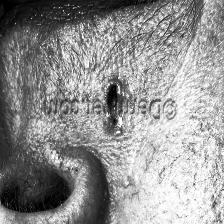Potentially Malignant Skin Tumors: (102, 79, 121, 107), (106, 116, 125, 136)
